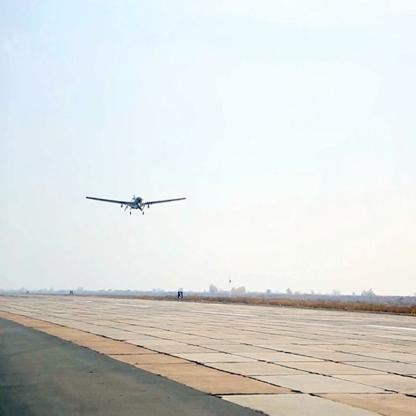aircraft: (80, 183, 190, 224)
